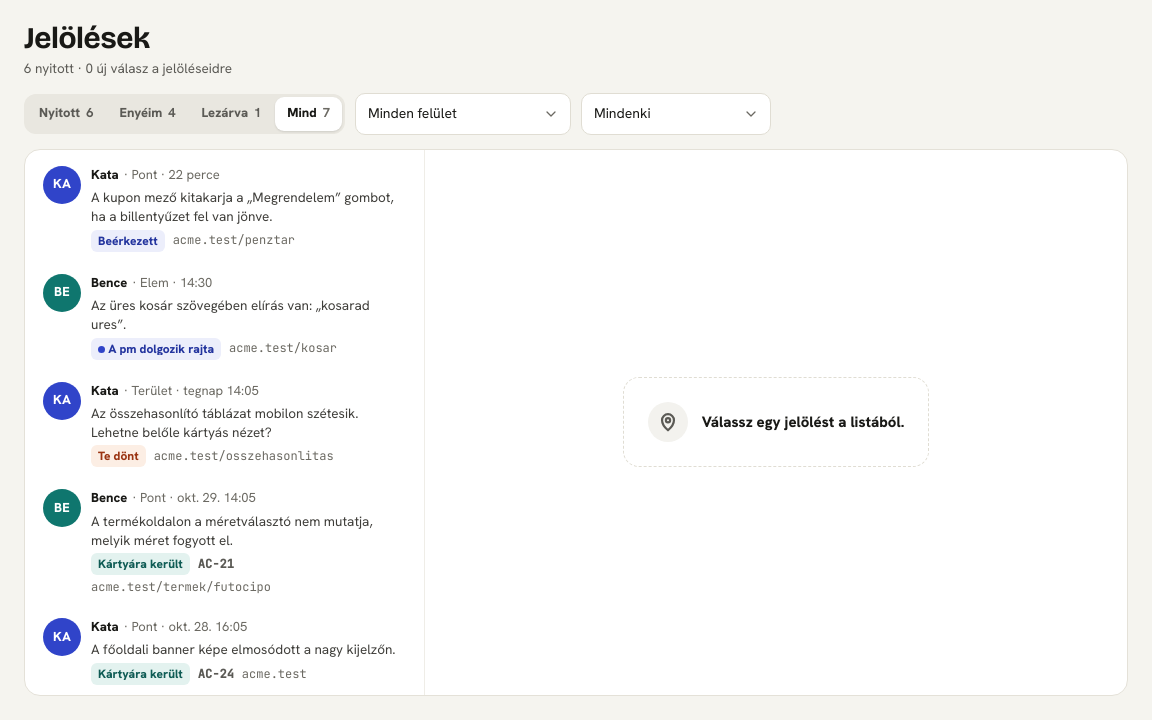
a viewer of the project › reads the thread but gets no box to write in
This screenshot has width=1152, height=720.
Click the text "A kupon mező kitakarja" at (244, 207), box left=91, top=188, right=398, bottom=226
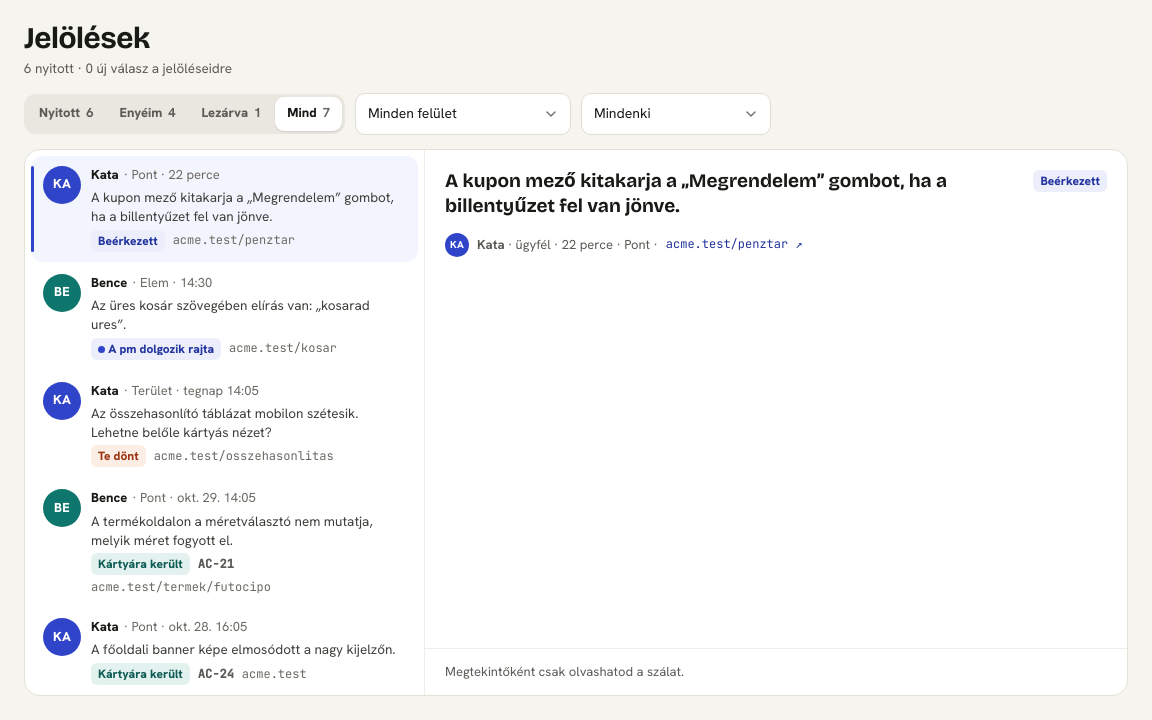
Result: the text "Megtekintőként csak olvashatod a szálat." is shown at left=425, top=648, right=1127, bottom=695
